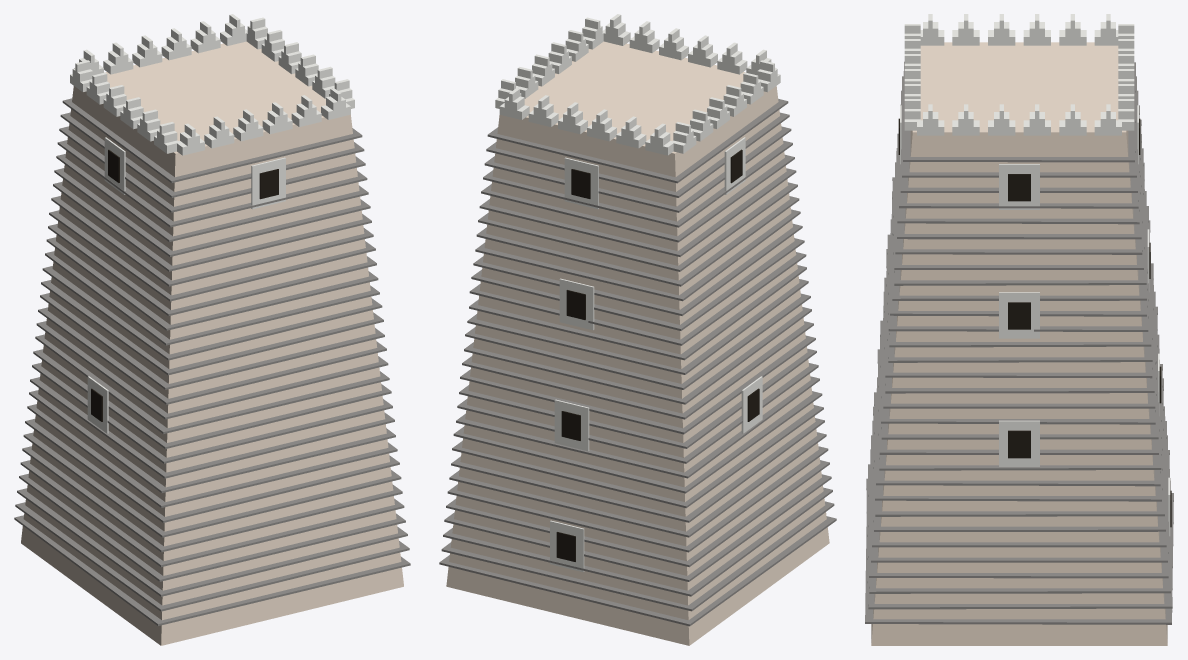
The model's file is SM_AsiriMudTower_A.fbx.
3 views of the same model, side by side, from view 1: azimuth 30°, elevation 25°; view 2: azimuth 150°, elevation 25°; view 3: azimuth 270°, elevation 25° (orthographic). The views are drawn at different scales.
Parts seen in each view (by area): view 1: SM_AsiriMudTower_A; view 2: SM_AsiriMudTower_A; view 3: SM_AsiriMudTower_A.
Boxes of the visible parts, x1,y1,x2,y2 form: SM_AsiriMudTower_A: (14, 14, 410, 645); SM_AsiriMudTower_A: (439, 14, 836, 645); SM_AsiriMudTower_A: (865, 14, 1173, 645).
Bounding box in the file's own units: 677 × 1260 × 677.
